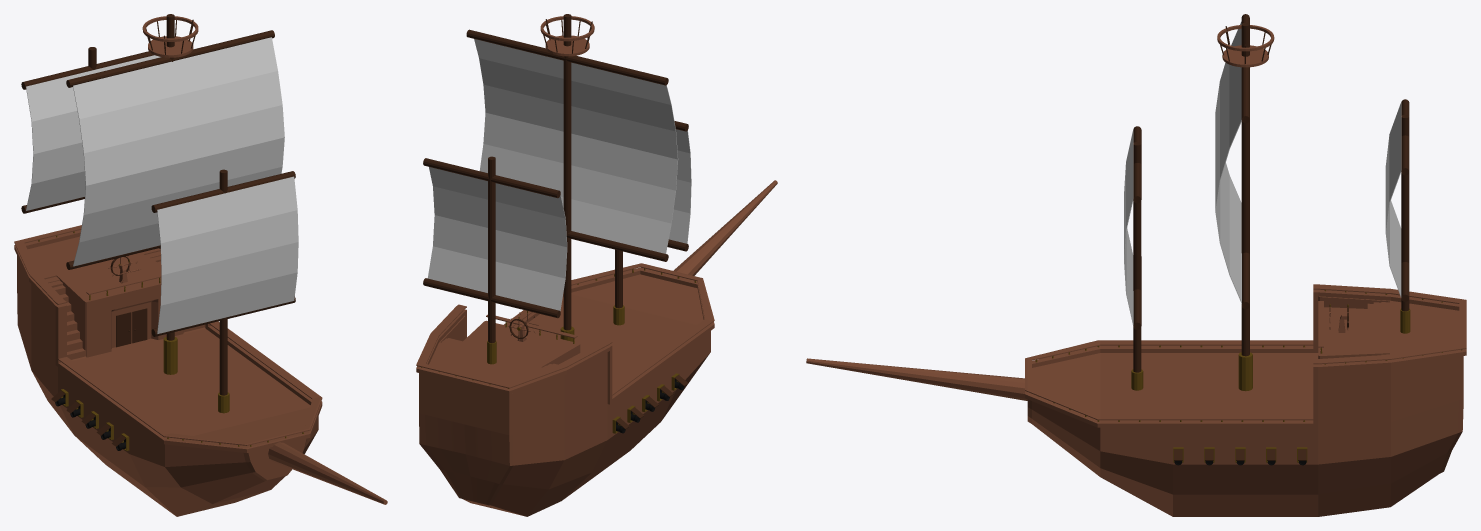
File: low_poly_boat_2.obj
3 renders of one model, left to right at view 1: azimuth 30°, elevation 25°; view 2: azimuth 150°, elevation 25°; view 3: azimuth 270°, elevation 25°, orthographic. The views are drawn at different scales.
Visible parts, largest first — view 1: Cube, Main_Sail_Plane.002, Bow_Sail_Plane, Stern_Sail_Plane.001, Cylinder.009, Cylinder.005, Cube.007, Cube.002_Cube.012, Cylinder.007, Cylinder.001, Cylinder.003, Cylinder.029_Cylinder.041 (+3 smaller); view 2: Cube, Main_Sail_Plane.002, Stern_Sail_Plane.001, Cylinder, Bow_Sail_Plane, Cylinder.005, Cylinder.009, Cylinder.002, Cylinder.003, Cylinder.004, Cylinder.006, Cylinder.029_Cylinder.041 (+2 smaller); view 3: Cube, Main_Sail_Plane.002, Cylinder.009, Stern_Sail_Plane.001, Cylinder, Bow_Sail_Plane, Cylinder.001, Cylinder.002.
Part boxes in pixels (x1,y1,x2,y2): Cube: (14, 225, 322, 516); Main_Sail_Plane.002: (73, 37, 284, 266); Bow_Sail_Plane: (157, 176, 298, 333); Stern_Sail_Plane.001: (26, 55, 160, 210); Cylinder.009: (268, 442, 387, 504); Cylinder.005: (66, 30, 274, 87); Cube.007: (116, 308, 147, 347); Cube.002_Cube.012: (45, 276, 85, 359); Cylinder.007: (151, 171, 295, 212); Cylinder.001: (219, 169, 227, 395); Cylinder.003: (21, 51, 154, 89); Cylinder.029_Cylinder.041: (148, 36, 193, 57); Cube: (416, 263, 714, 516); Main_Sail_Plane.002: (474, 39, 678, 253); Stern_Sail_Plane.001: (427, 167, 567, 310); Cylinder: (563, 14, 571, 330); Bow_Sail_Plane: (669, 129, 691, 243); Cylinder.005: (466, 29, 668, 85); Cylinder.009: (673, 180, 777, 275); Cylinder.002: (488, 156, 495, 343); Cylinder.003: (423, 158, 560, 198); Cylinder.004: (423, 278, 560, 318); Cylinder.006: (566, 231, 668, 261); Cylinder.029_Cylinder.041: (545, 35, 589, 56); Cube: (1025, 284, 1466, 516); Main_Sail_Plane.002: (1215, 21, 1241, 303); Cylinder.009: (806, 358, 1027, 400); Stern_Sail_Plane.001: (1385, 103, 1401, 297); Cylinder: (1241, 22, 1249, 356); Bow_Sail_Plane: (1124, 130, 1133, 324); Cylinder.001: (1133, 142, 1141, 372); Cylinder.002: (1401, 114, 1409, 311).
Bounding box in the file's own units: 3.83 × 8.37 × 10.48.
